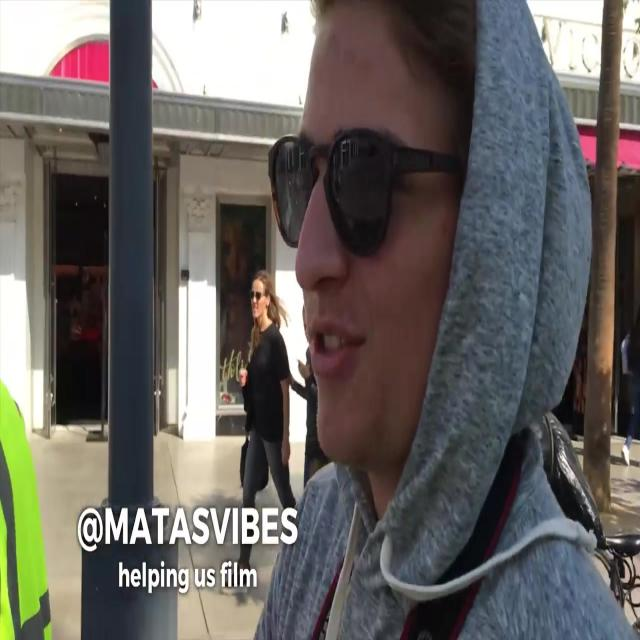Reflective-Jacket: (1, 299, 56, 640)
